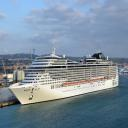cruises: (9, 47, 122, 107)
